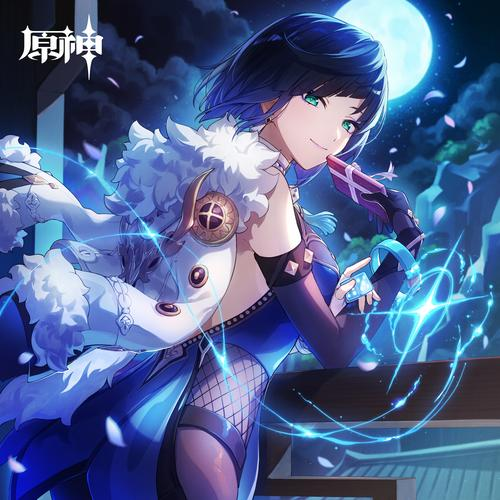夜兰: (46, 12, 424, 500)
